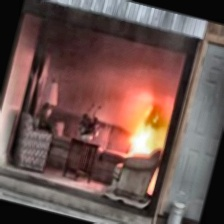fire: (127, 96, 174, 160)
